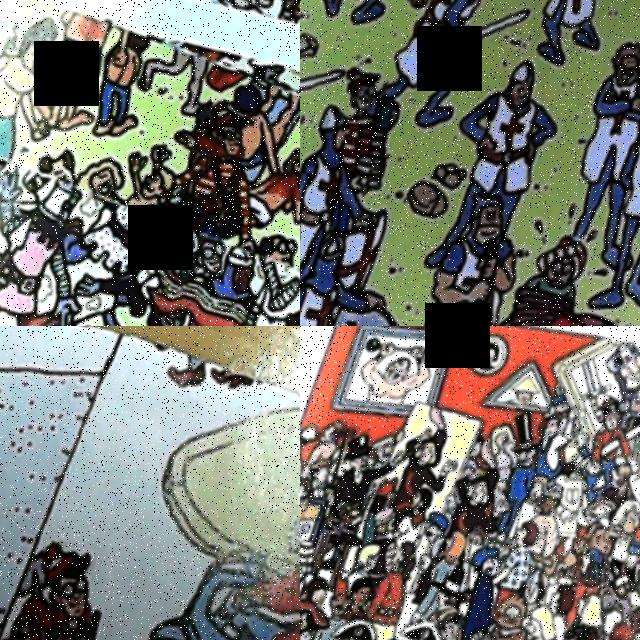waldo: (29, 527, 117, 634), (337, 52, 402, 126), (204, 90, 263, 159), (198, 227, 240, 273), (434, 604, 475, 640)
